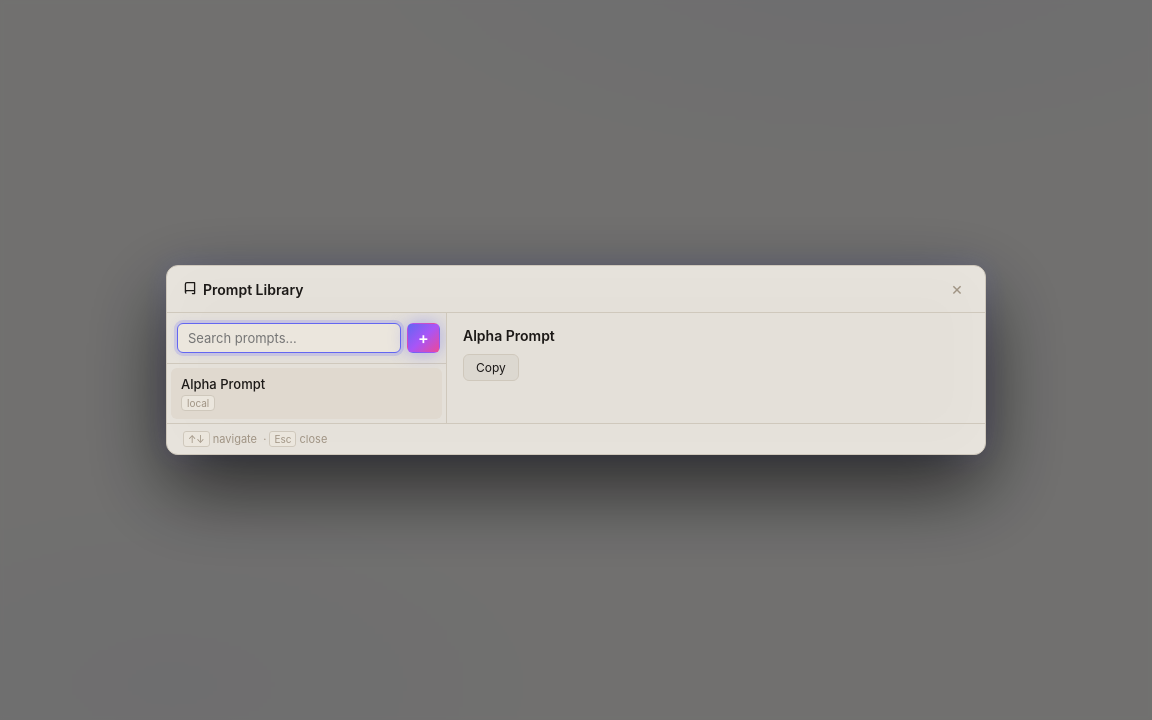
Test: PromptLibrary › shows 'No matching prompts' when filter has no results
This screenshot has width=1152, height=720.
In the field with placeholder "Search prompts…": (289, 338) [177,323,401,353], type "zzz"
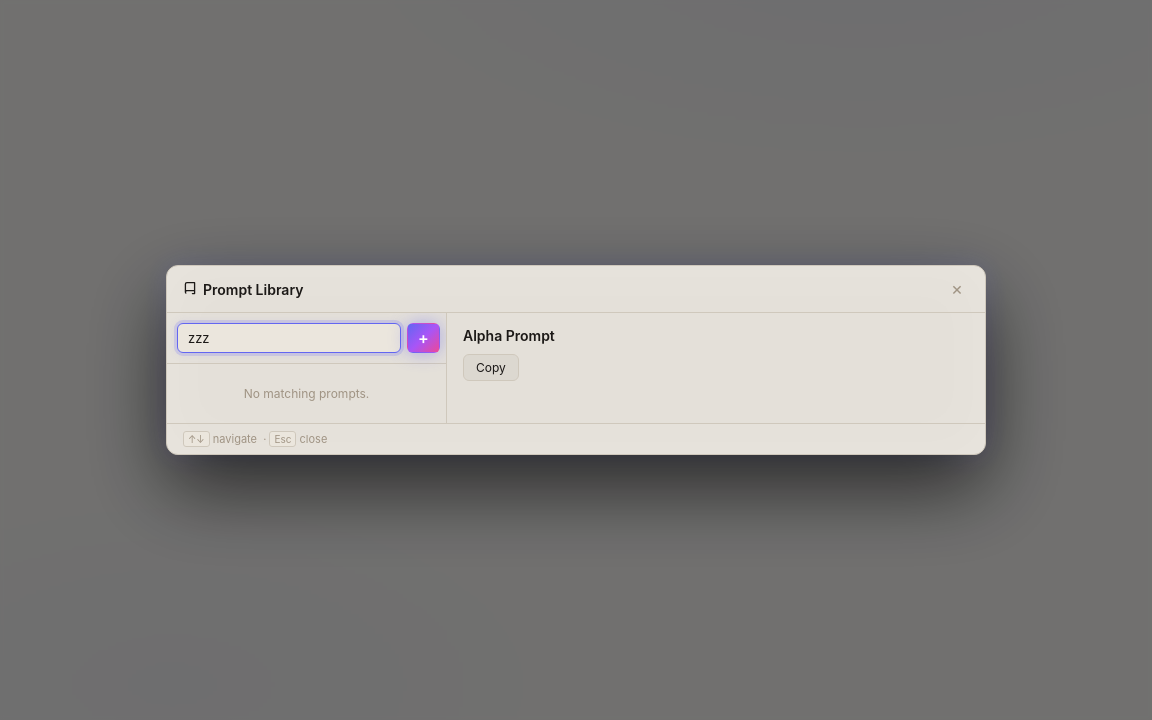
Expected: the text "No matching prompts." is shown, [244,386,369,401]
